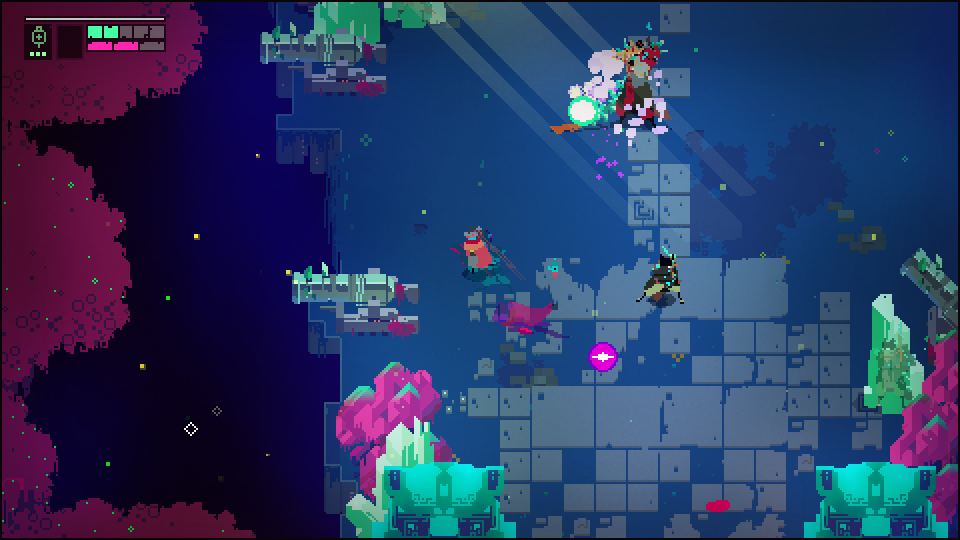hanged_man: (613, 44, 672, 133)
hanged_shot: (568, 97, 599, 125), (590, 343, 616, 371)
player: (463, 229, 489, 271)
